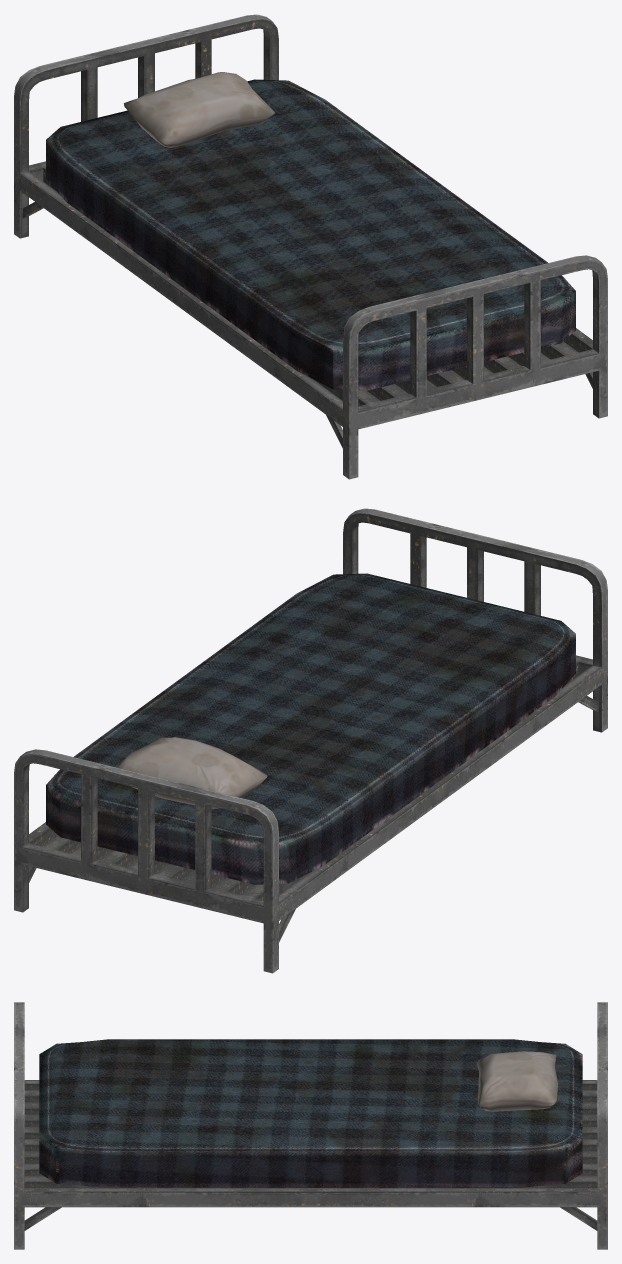
The model's file is Bed.glb.
3 renders of one model, top to bottom at view 1: azimuth 30°, elevation 25°; view 2: azimuth 150°, elevation 25°; view 3: azimuth 270°, elevation 25°, orthographic. The views are drawn at different scales.
Parts seen in each view (by area): view 1: Object002_bed_0, Object001_bed_0, Object003_bed_0; view 2: Object002_bed_0, Object001_bed_0, Object003_bed_0; view 3: Object002_bed_0, Object001_bed_0, Object003_bed_0.
Boxes of the visible parts, bbox=[...] form: Object002_bed_0: bbox=[46, 79, 575, 390]; Object001_bed_0: bbox=[14, 14, 607, 479]; Object003_bed_0: bbox=[123, 72, 274, 147]; Object002_bed_0: bbox=[46, 573, 575, 884]; Object001_bed_0: bbox=[14, 508, 607, 973]; Object003_bed_0: bbox=[115, 737, 267, 809]; Object002_bed_0: bbox=[39, 1039, 582, 1187]; Object001_bed_0: bbox=[14, 1002, 607, 1249]; Object003_bed_0: bbox=[476, 1051, 557, 1111].
Bounding box in the file's own units: 1.21 × 0.7226 × 2.71.
1 material, 1 textured.
